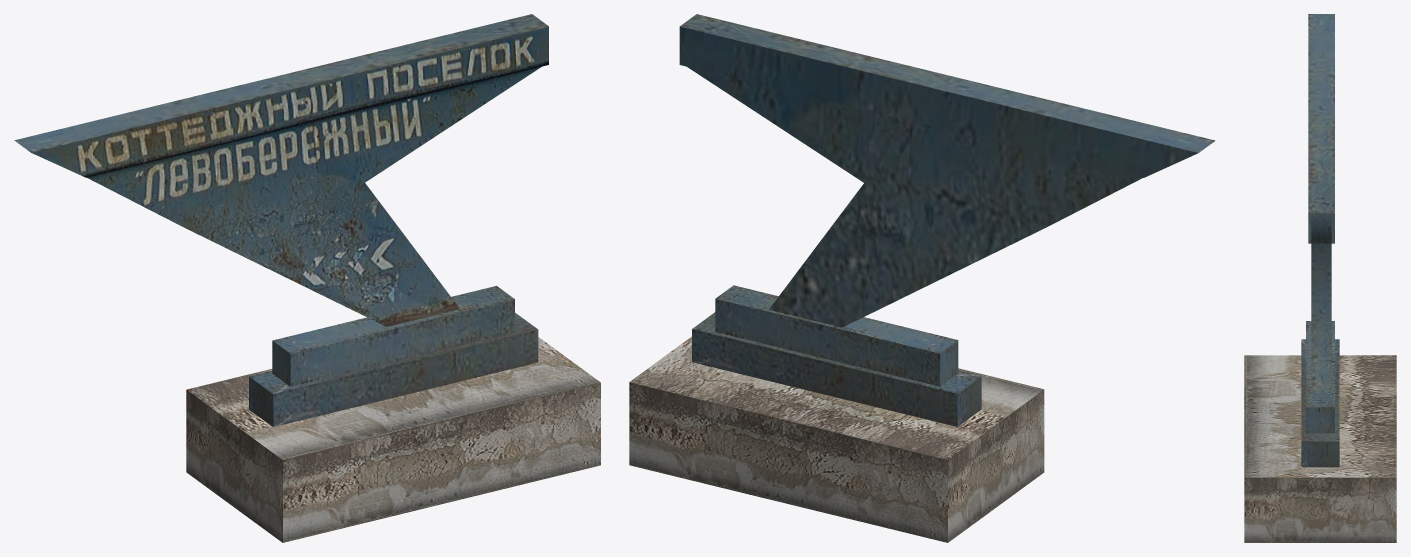
Rendered from r402_omsk_levoberezhniy_stela.FBX.
3 views of the same model, side by side, from view 1: azimuth 30°, elevation 25°; view 2: azimuth 150°, elevation 25°; view 3: azimuth 270°, elevation 25° (orthographic). The views are drawn at different scales.
Parts seen in each view (by area): view 1: r402_omsk_levoberezhniy_stela; view 2: r402_omsk_levoberezhniy_stela; view 3: r402_omsk_levoberezhniy_stela.
Boxes of the visible parts, x1=… form: r402_omsk_levoberezhniy_stela: x1=14, y1=14, x2=600, y2=542; r402_omsk_levoberezhniy_stela: x1=629, y1=14, x2=1215, y2=542; r402_omsk_levoberezhniy_stela: x1=1244, y1=14, x2=1396, y2=542.
Size of the model in its own units: 3.02 by 0.9537 by 2.25.
